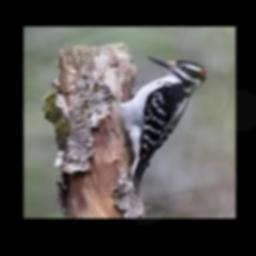Woodpecker: (117, 55, 205, 190)
